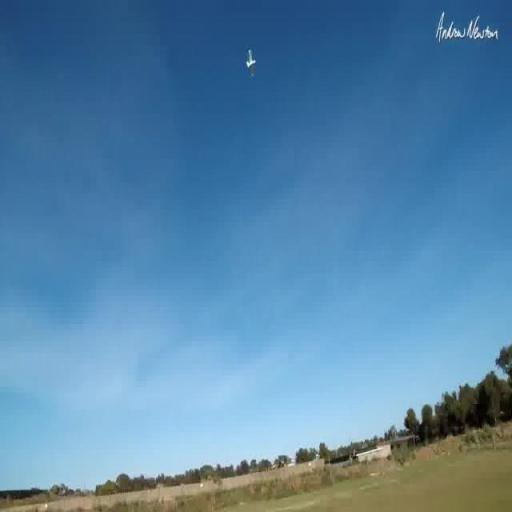uav: (234, 44, 268, 85)
